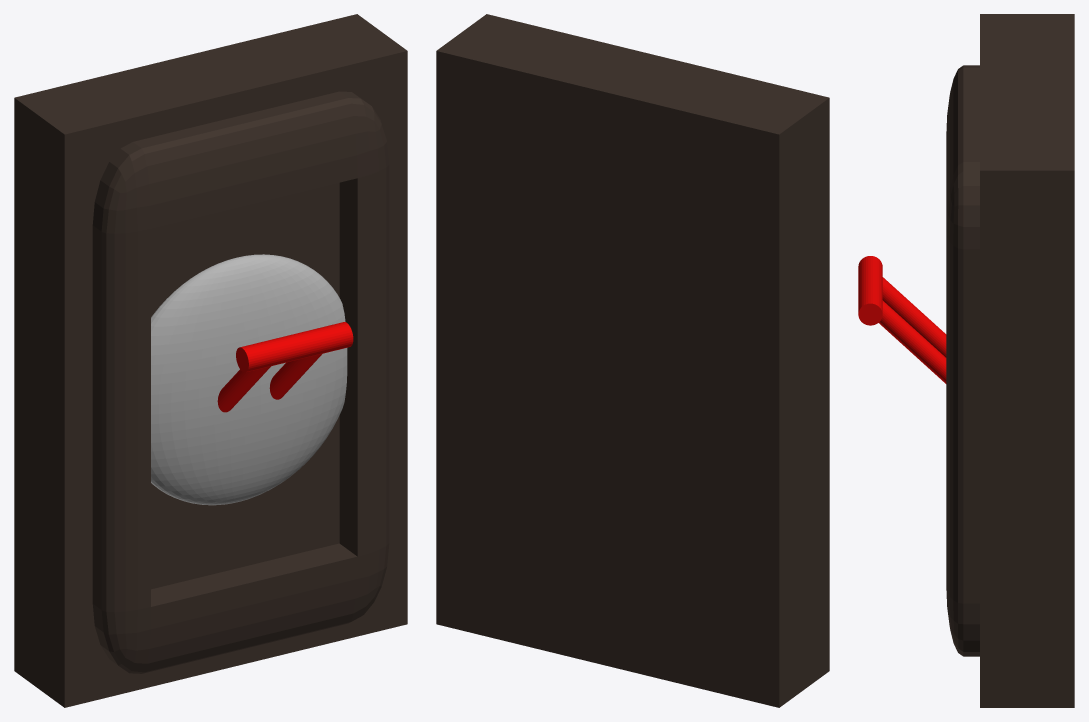
File: BasicMainSwitch1.fbx
3 renders of one model, left to right at view 1: azimuth 30°, elevation 25°; view 2: azimuth 150°, elevation 25°; view 3: azimuth 270°, elevation 25°, orthographic. The views are drawn at different scales.
Parts seen in each view (by area): view 1: Main, LeverBase, Lever; view 2: Main; view 3: Main, Lever.
Boxes of the visible parts, <box> form: Main: <box>14,14,407,707</box>; LeverBase: <box>151,254,347,505</box>; Lever: <box>217,322,353,412</box>; Main: <box>436,14,829,707</box>; Main: <box>946,14,1074,707</box>; Lever: <box>858,256,946,383</box>.
Size of the model in its own units: 117 by 319 by 200.
